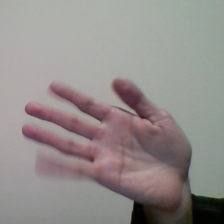left: (17, 70, 208, 208)
